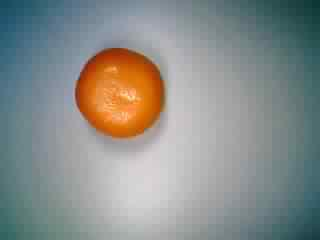orange: (71, 43, 167, 139)
